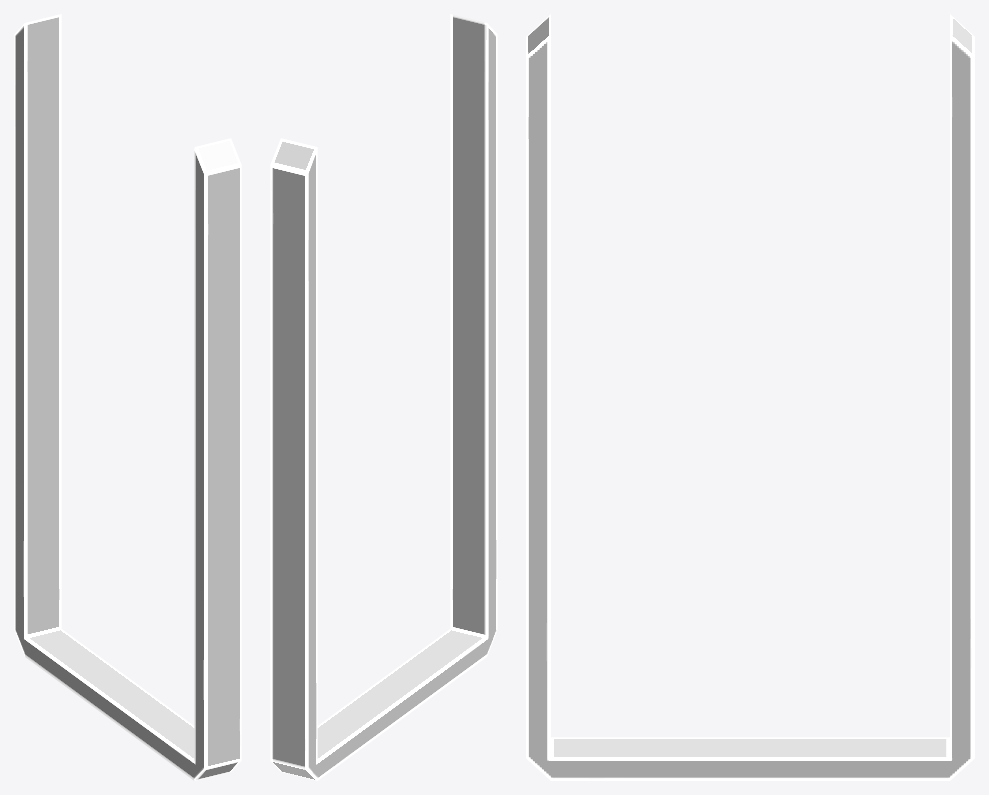
The model's file is board.gltf.
3 views of the same model, side by side, from view 1: azimuth 30°, elevation 25°; view 2: azimuth 150°, elevation 25°; view 3: azimuth 270°, elevation 25° (orthographic). The views are drawn at different scales.
Visible parts, largest first — view 1: 立方体.001; view 2: 立方体.001; view 3: 立方体.001.
Boxes of the visible parts, x1,y1,x2,y2 form: 立方体.001: [14, 14, 241, 780]; 立方体.001: [270, 14, 497, 780]; 立方体.001: [526, 14, 974, 780].
Bounding box in the file's own units: 2 × 33 × 18.
1 material, 1 textured.
